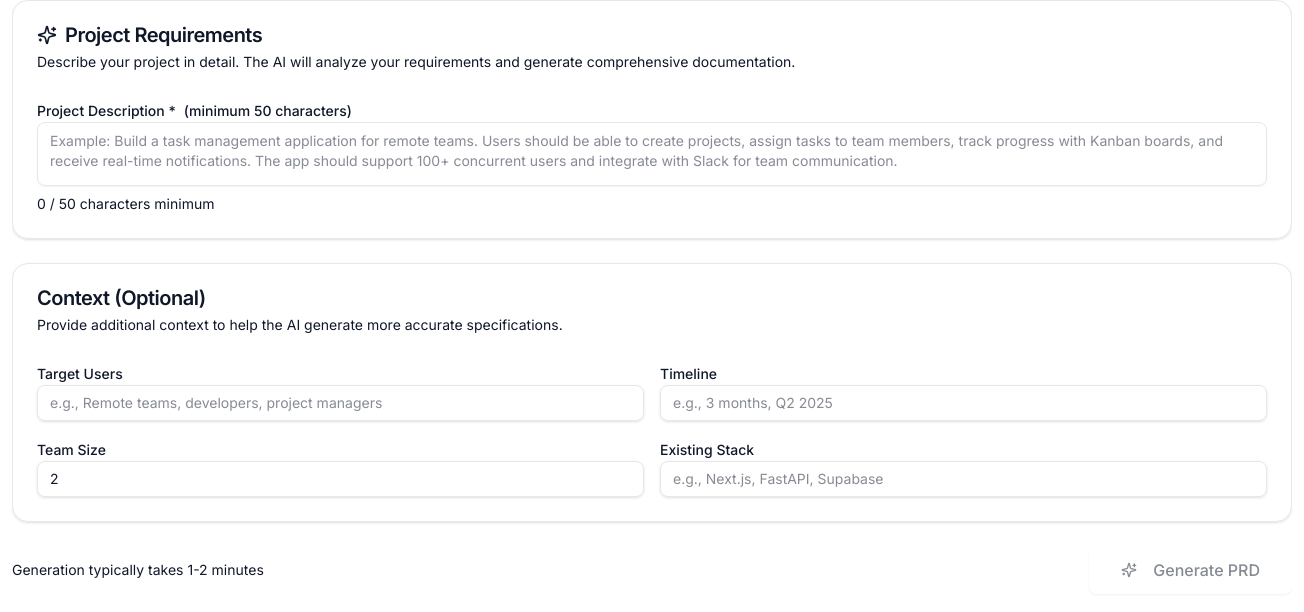
Test case: PRDGeneratorForm › should enable submit button when requirements are valid
Replace the text in the text box labelled "Project Description *(minimum 50 characters)" with "Build a comprehensive task management app for remote teams with real-time collaboration": x=652, y=154 [37, 122, 1267, 186]
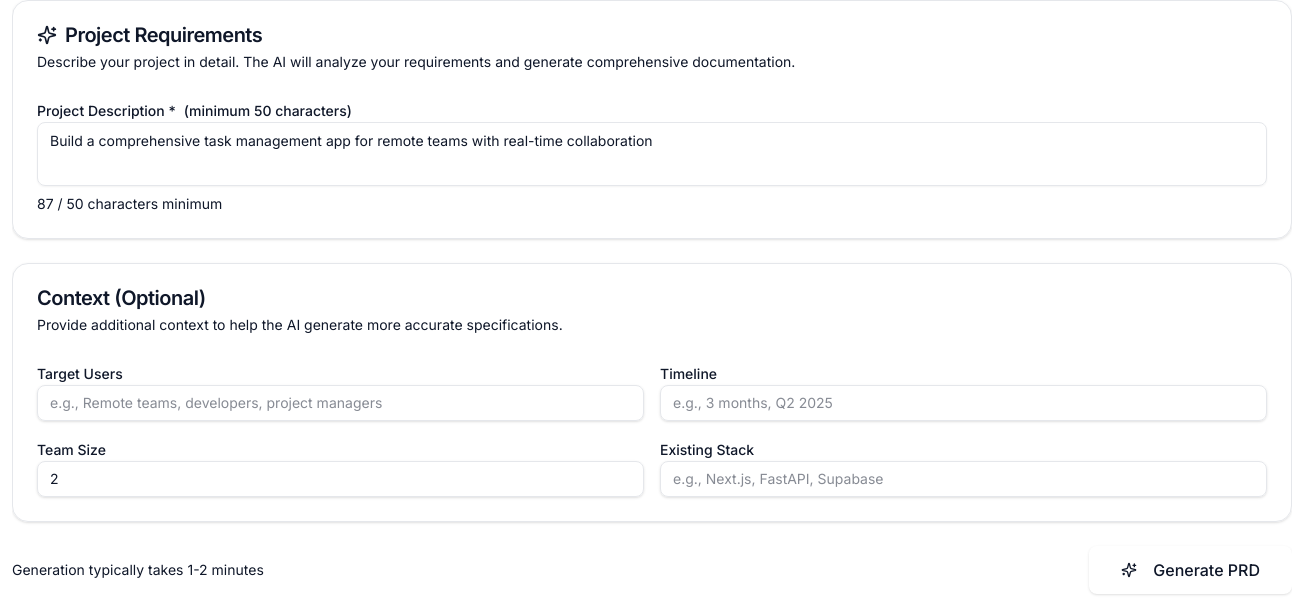
Now the button "Generate PRD" is enabled, box [1089, 546, 1292, 594]
